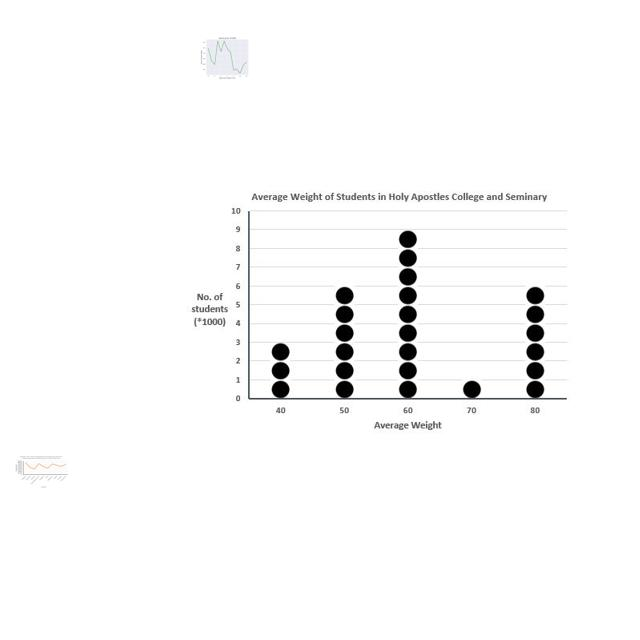Graph: (180, 184, 574, 442), (193, 34, 260, 80), (13, 455, 69, 488)
